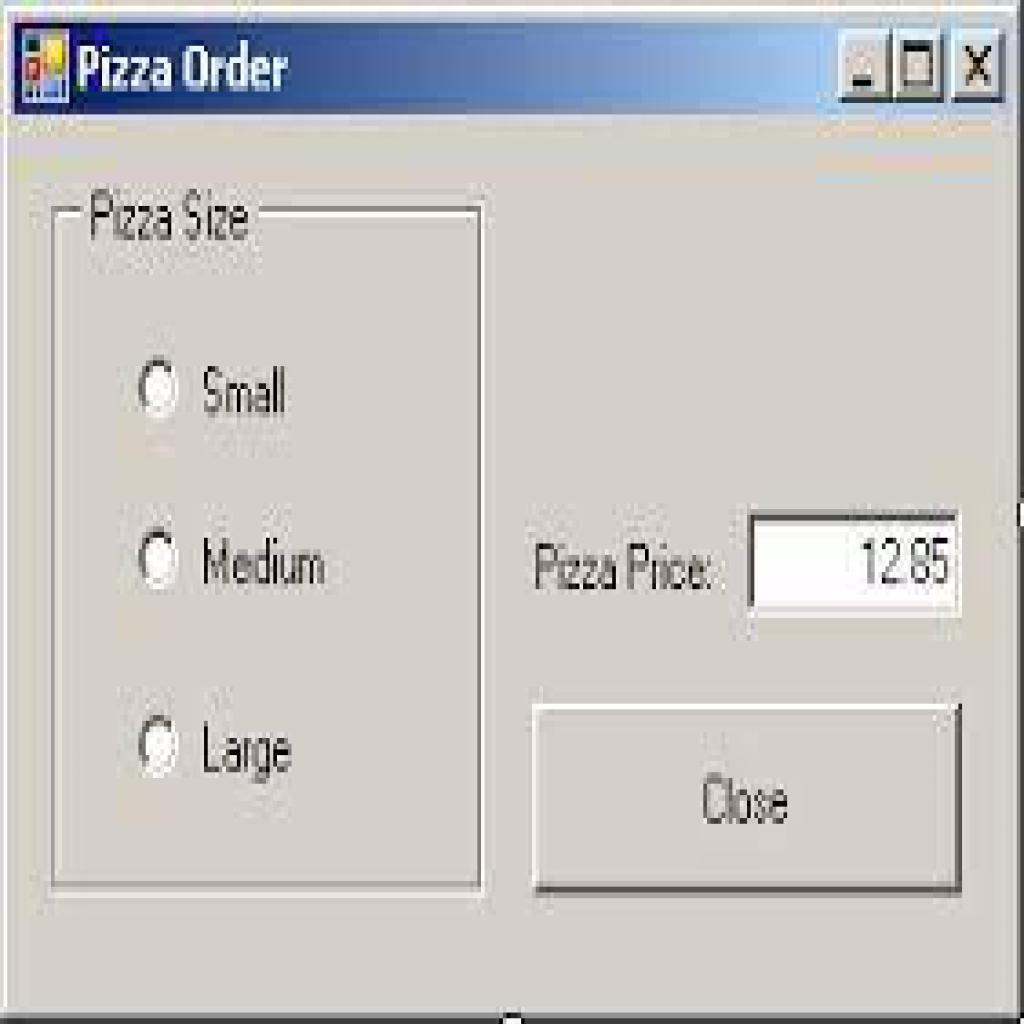button: (534, 707, 961, 890)
input: (747, 520, 955, 617)
radio: (136, 525, 189, 599), (131, 350, 180, 422), (137, 709, 182, 778)
